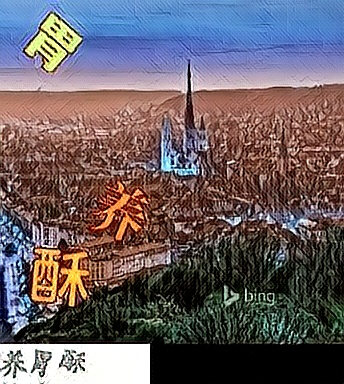CBD6: (28, 244, 91, 310)
CEB8: (21, 7, 84, 73)
D1F8: (90, 179, 153, 245)
